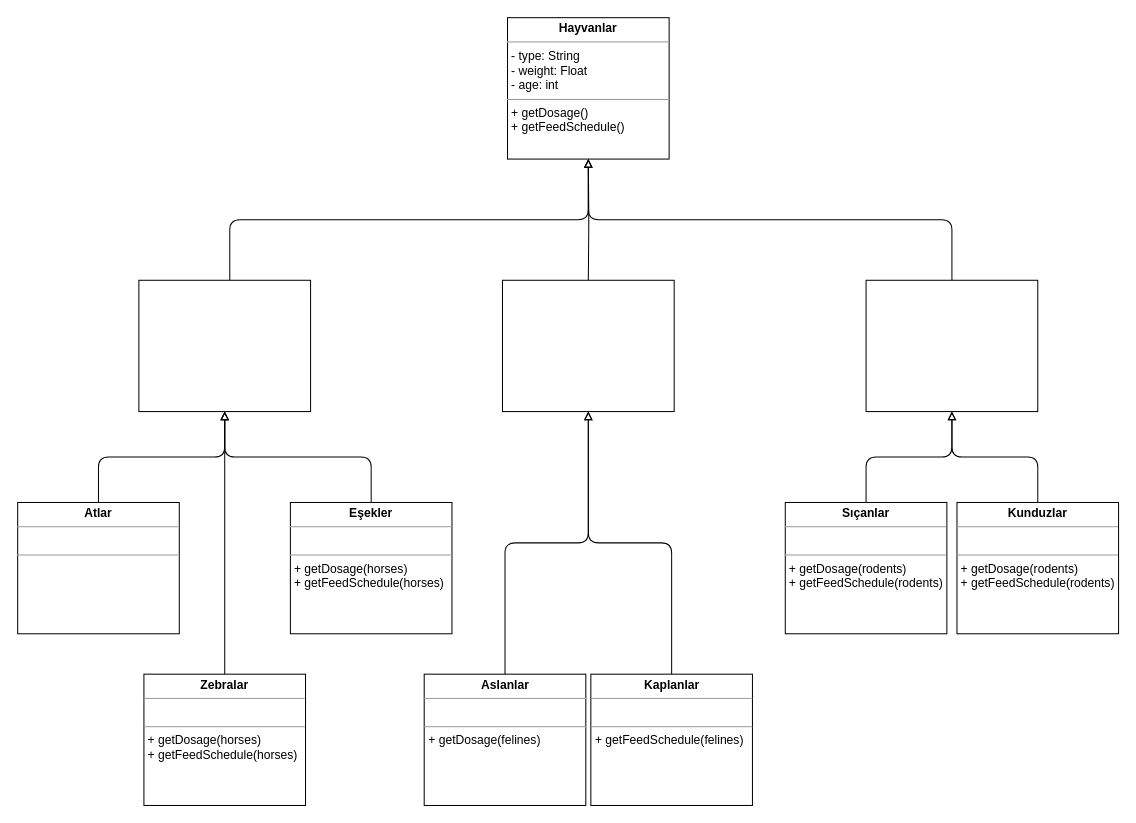
This 1136x823 diagram has some shape labels left out. The centre of each missing label's shape, as x and y in pixels:
"Atlar - subtype: String + getDosage(horses) + getFeedSchedule(horses)" belongs at point (224, 345).
"Kedigiller - subtype: String + getDosage(felines) + getFeedSchedule(felines)" belongs at point (587, 345).
"Kemirgenler - subtype: String + getDosage(rodents) + getFeedSchedule(rodents)" belongs at point (951, 345).
